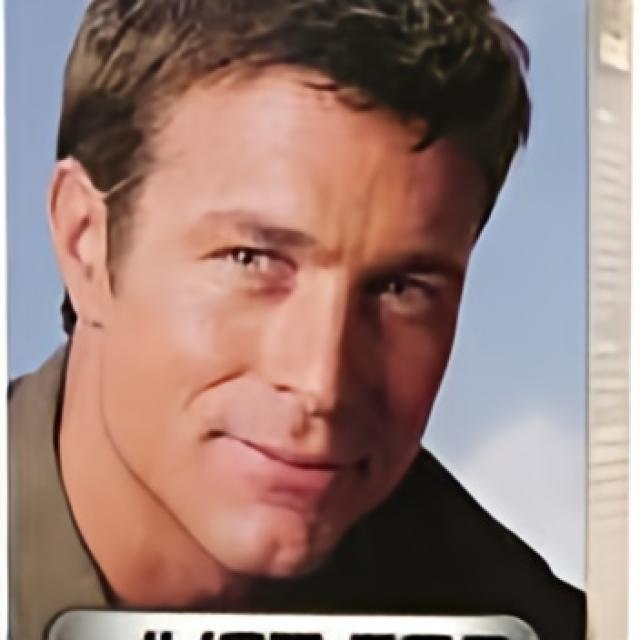content: (98, 61, 487, 579)
